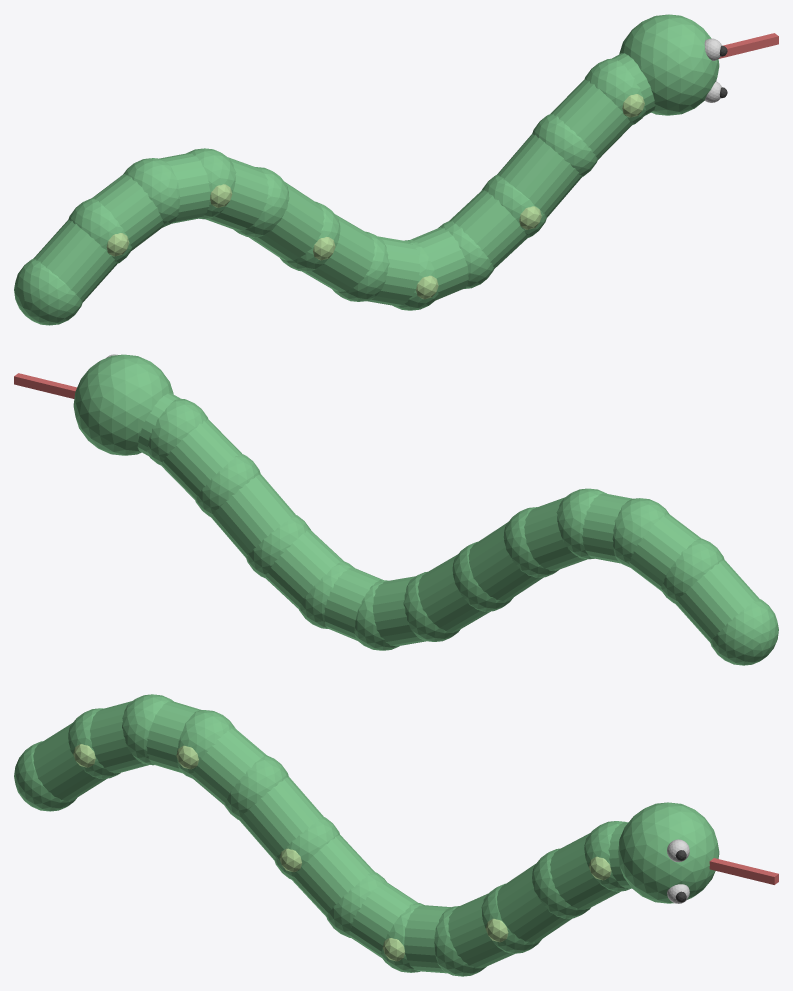
Rendered from snake.glb.
3 views of the same model, one above another, from view 1: azimuth 30°, elevation 25°; view 2: azimuth 150°, elevation 25°; view 3: azimuth 330°, elevation 25° (orthographic).
Parts seen in each view (by area): view 1: sph12, seg9, seg0, seg10, seg8, sph0, seg4, seg1, seg5, seg3, seg7, seg6 (+14 smaller); view 2: sph12, seg9, seg0, seg10, seg8, sph0, seg4, seg1, seg5, seg3, seg7, seg6 (+14 smaller); view 3: sph12, seg4, seg5, seg3, seg9, seg0, seg10, seg6, seg8, seg1, seg2, seg7 (+14 smaller).
Boxes of the visible parts, <box> form: sph12: <box>619,14,719,115</box>; seg9: <box>497,133,581,217</box>; seg0: <box>33,219,117,302</box>; seg10: <box>550,79,631,159</box>; seg8: <box>449,189,527,268</box>; sph0: <box>14,258,82,325</box>; seg4: <box>249,182,324,260</box>; seg1: <box>92,174,163,250</box>; seg5: <box>302,214,375,291</box>; seg3: <box>205,157,268,230</box>; seg7: <box>410,227,468,300</box>; seg6: <box>367,236,419,306</box>; sph12: <box>73,354,173,455</box>; seg9: <box>211,474,295,557</box>; seg0: <box>675,560,758,642</box>; seg10: <box>161,419,241,499</box>; seg8: <box>265,529,343,608</box>; sph0: <box>710,598,778,665</box>; seg4: <box>468,522,543,600</box>; seg1: <box>629,514,700,591</box>; seg5: <box>418,554,490,631</box>; seg3: <box>524,497,586,570</box>; seg7: <box>324,567,382,640</box>; seg6: <box>372,576,425,646</box>; sph12: <box>618,802,719,903</box>; seg4: <box>239,776,323,859</box>; seg5: <box>292,835,374,916</box>; seg3: <box>191,727,267,805</box>; seg9: <box>497,864,572,942</box>; seg0: <box>33,723,106,800</box>; seg10: <box>550,833,620,909</box>; seg6: <box>349,882,417,957</box>; seg8: <box>448,893,514,968</box>; seg1: <box>90,701,148,773</box>; seg2: <box>146,701,201,773</box>; seg7: <box>404,905,451,973</box>.
Bounding box in the file's own units: 3.43 × 0.9769 × 0.4.
